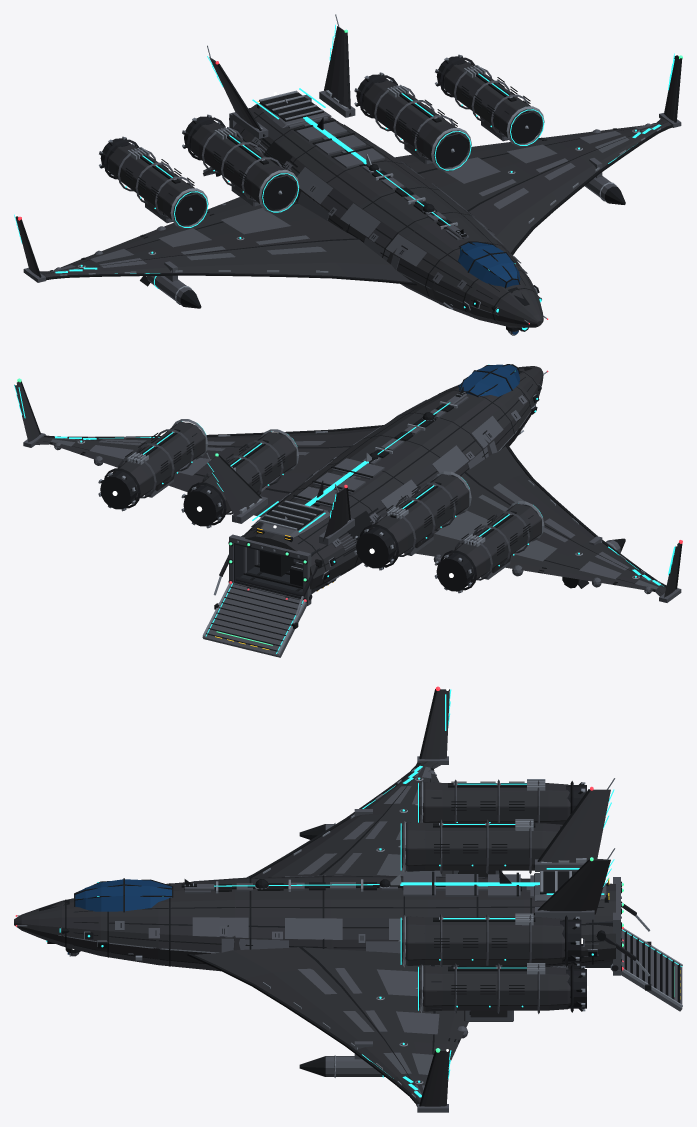
The model's file is plane_cargo_elite.glb.
The picture shows the model from 3 angles, top to bottom: view 1: azimuth 30°, elevation 25°; view 2: azimuth 150°, elevation 25°; view 3: azimuth 270°, elevation 25°; orthographic projection. The views are drawn at different scales.
Parts seen in each view (by area): view 1: PlaneCargoElite; view 2: PlaneCargoElite; view 3: PlaneCargoElite.
Part boxes in pixels (x1=…): PlaneCargoElite: x1=14, y1=14, x2=682, y2=335; PlaneCargoElite: x1=14, y1=364, x2=682, y2=657; PlaneCargoElite: x1=14, y1=686, x2=682, y2=1112.
Size of the model in its own units: 45 by 10.33 by 35.
